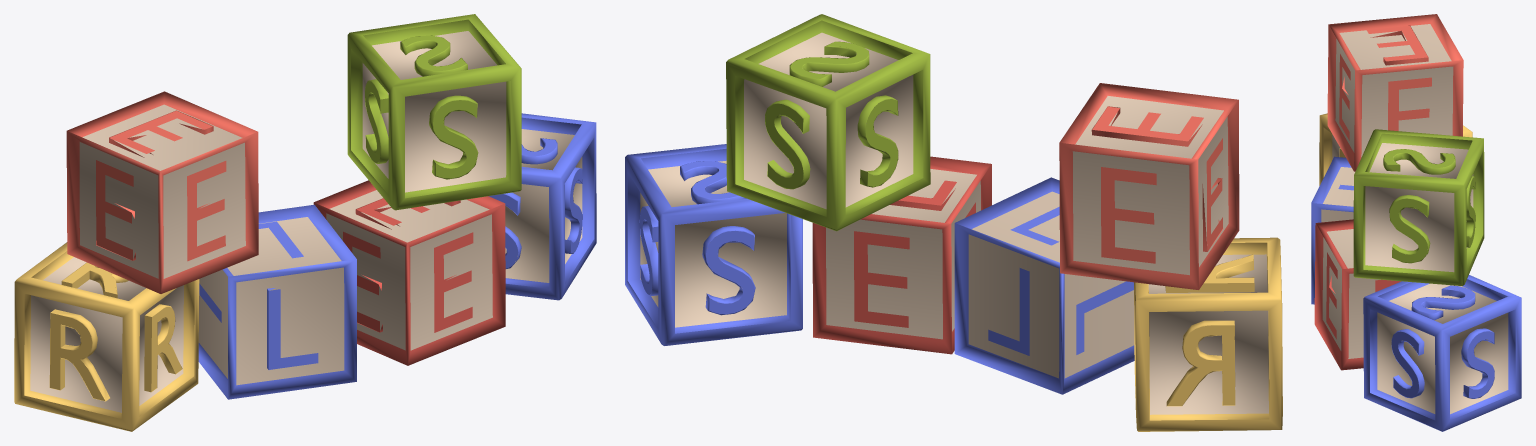
3 renders of one model, left to right at view 1: azimuth 30°, elevation 25°; view 2: azimuth 150°, elevation 25°; view 3: azimuth 270°, elevation 25°, orthographic. The views are drawn at different scales.
Visible parts, largest first — view 1: E, S, R, L, E.001, S.001; view 2: S, E, S.001, L, R, E.001; view 3: S.001, S, E, E.001, L, R.
Boxes of the visible parts, left/top/right/bottom form: E: left=66, top=91, right=258, bottom=293; S: left=347, top=14, right=521, bottom=210; R: left=14, top=242, right=199, bottom=431; L: left=198, top=204, right=356, bottom=399; E.001: left=313, top=180, right=505, bottom=365; S.001: left=488, top=113, right=596, bottom=300; S: left=726, top=14, right=930, bottom=231; E: left=1059, top=83, right=1239, bottom=289; S.001: left=625, top=144, right=802, bottom=345; L: left=954, top=177, right=1134, bottom=394; R: left=1134, top=237, right=1282, bottom=431; E.001: left=812, top=156, right=991, bottom=354; S.001: left=1363, top=275, right=1521, bottom=431; S: left=1353, top=129, right=1484, bottom=285; E: left=1327, top=14, right=1463, bottom=171; E.001: left=1314, top=219, right=1400, bottom=370; L: left=1311, top=156, right=1354, bottom=304; R: left=1319, top=113, right=1472, bottom=185.
Bounding box in the file's own units: 1363 × 546 × 504.
